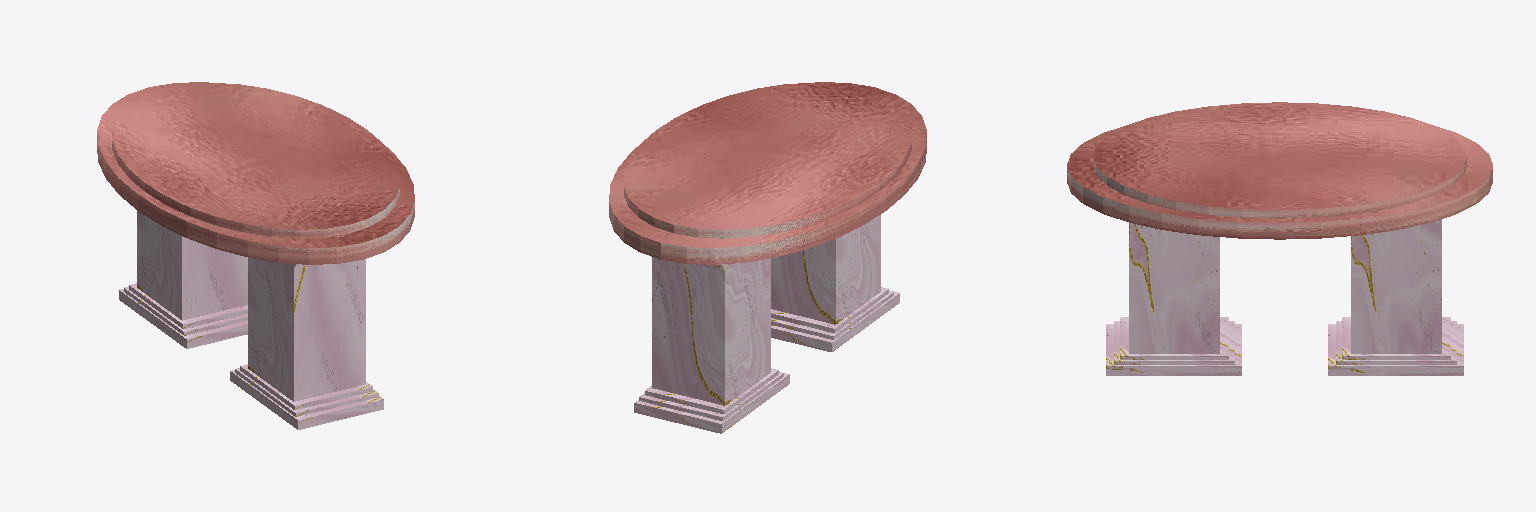
3 views of the same model, side by side, from view 1: azimuth 30°, elevation 25°; view 2: azimuth 150°, elevation 25°; view 3: azimuth 270°, elevation 25° (orthographic).
Visible parts, largest first — view 1: Cylinder, Cube.008, Cube.007; view 2: Cylinder, Cube.007, Cube.008; view 3: Cylinder, Cube.007, Cube.008.
Boxes of the visible parts, x1,y1,x2,y2 form: Cylinder: [97, 82, 414, 264]; Cube.008: [230, 258, 383, 429]; Cube.007: [119, 211, 247, 348]; Cylinder: [609, 82, 926, 264]; Cube.007: [634, 257, 789, 433]; Cube.008: [771, 215, 899, 351]; Cylinder: [1067, 102, 1492, 239]; Cube.007: [1328, 216, 1463, 375]; Cube.008: [1106, 223, 1241, 375].
Bounding box in the file's own units: 4.1 × 3.3 × 6.38.
Materials: 3 (2 with a texture image).